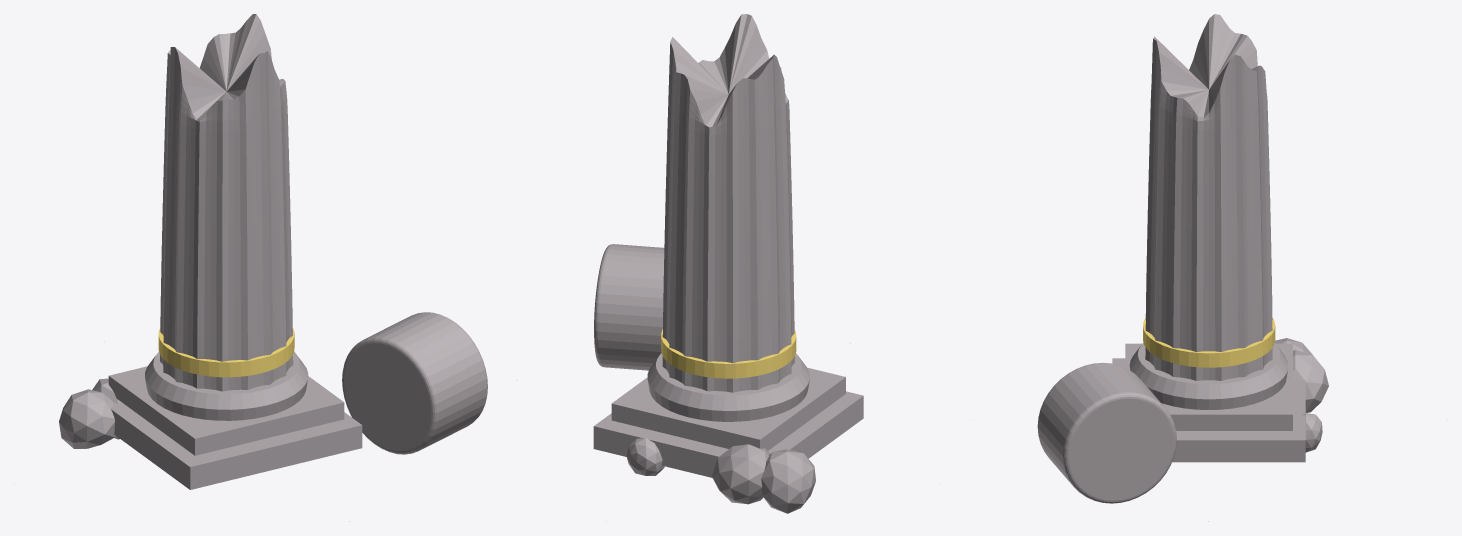
File: SandColumnBroken.glb
3 renders of one model, left to right at view 1: azimuth 30°, elevation 25°; view 2: azimuth 150°, elevation 25°; view 3: azimuth 270°, elevation 25°, orthographic. The views are drawn at different scales.
Visible parts, largest first — view 1: Stone, Gold; view 2: Stone, Gold; view 3: Stone, Gold.
Part boxes in pixels (x1,y1,x2,y2): Stone: [14, 14, 487, 521]; Gold: [158, 327, 294, 377]; Stone: [516, 14, 863, 521]; Gold: [661, 329, 796, 378]; Stone: [1037, 14, 1447, 521]; Gold: [1143, 317, 1275, 367].
Size of the model in its own units: 15.04 by 14.15 by 15.04.
